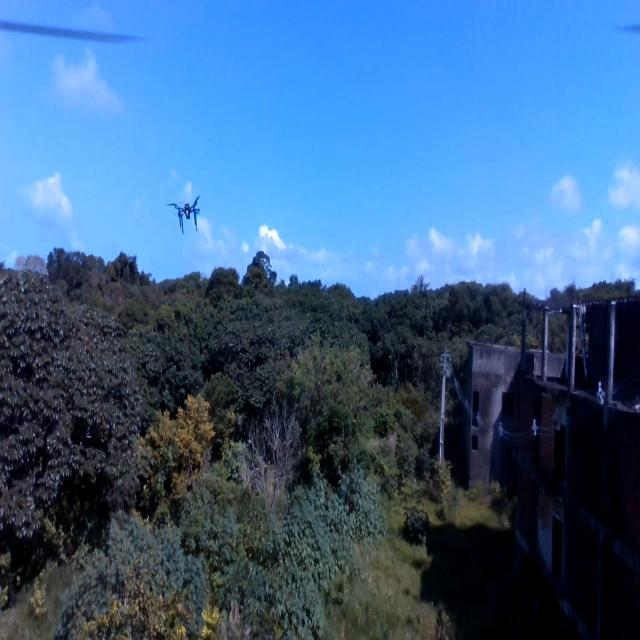-uav-: (168, 188, 208, 245)
